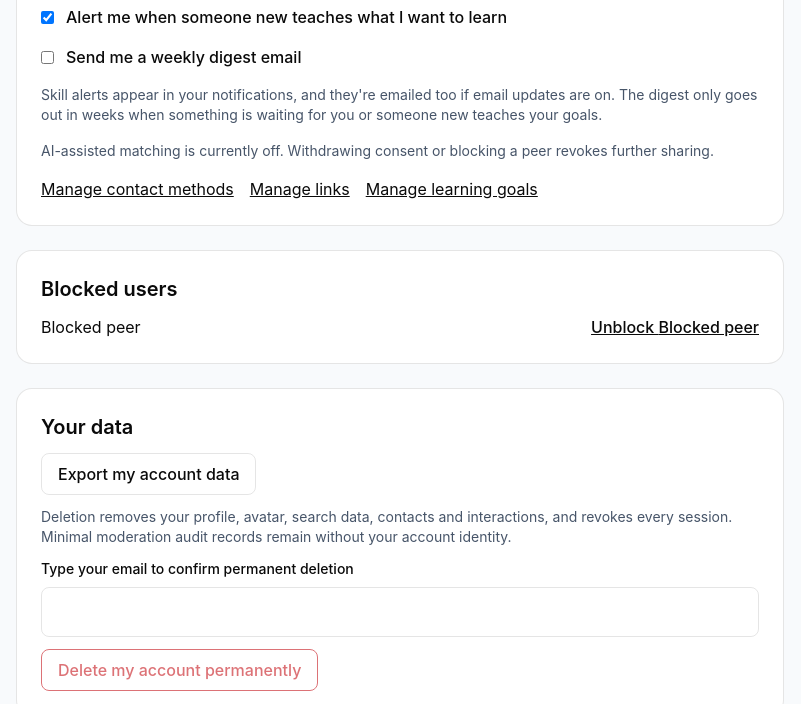
Test: loads actual blocks and keeps failures visible when unblocking fails
This screenshot has width=801, height=704.
(page scrolled)
Click the button "Unblock Blocked peer" at (675, 327), box [591,315,759,339]
(page scrolled)
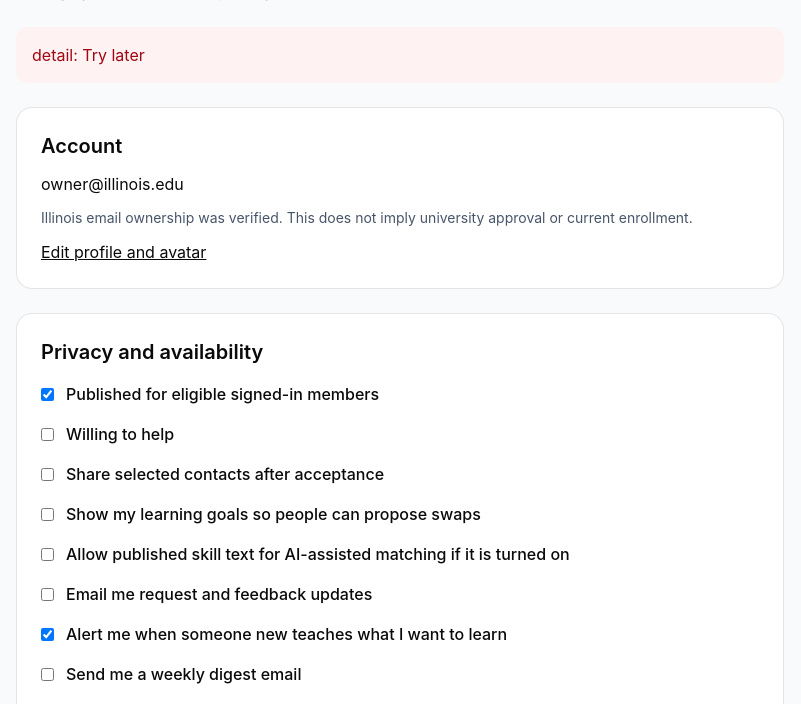
Result: the message "detail: Try later" is shown at [16,27,784,83]
